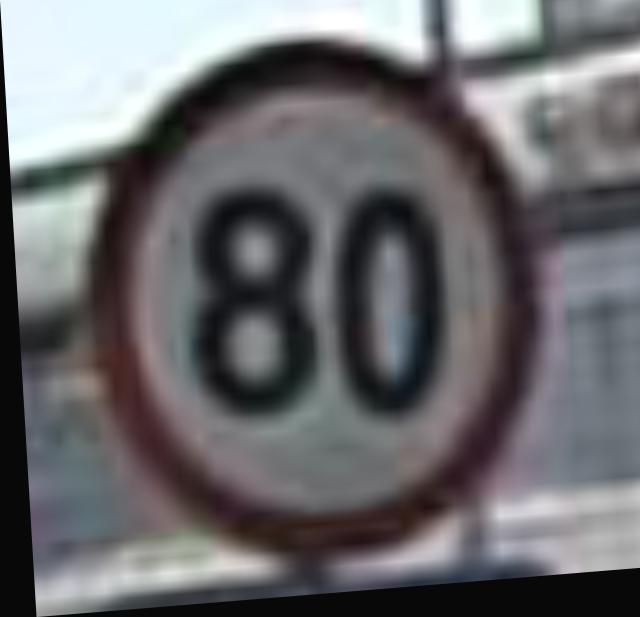limit80: (82, 36, 554, 535)
